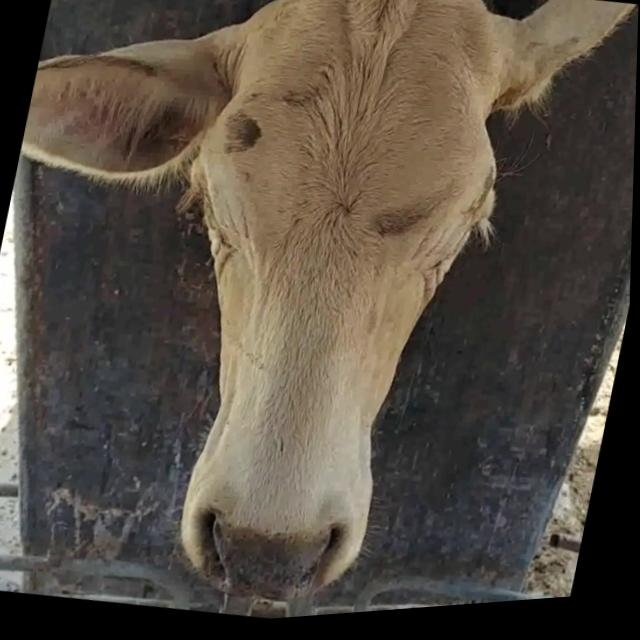cowFace: (111, 0, 536, 632)
